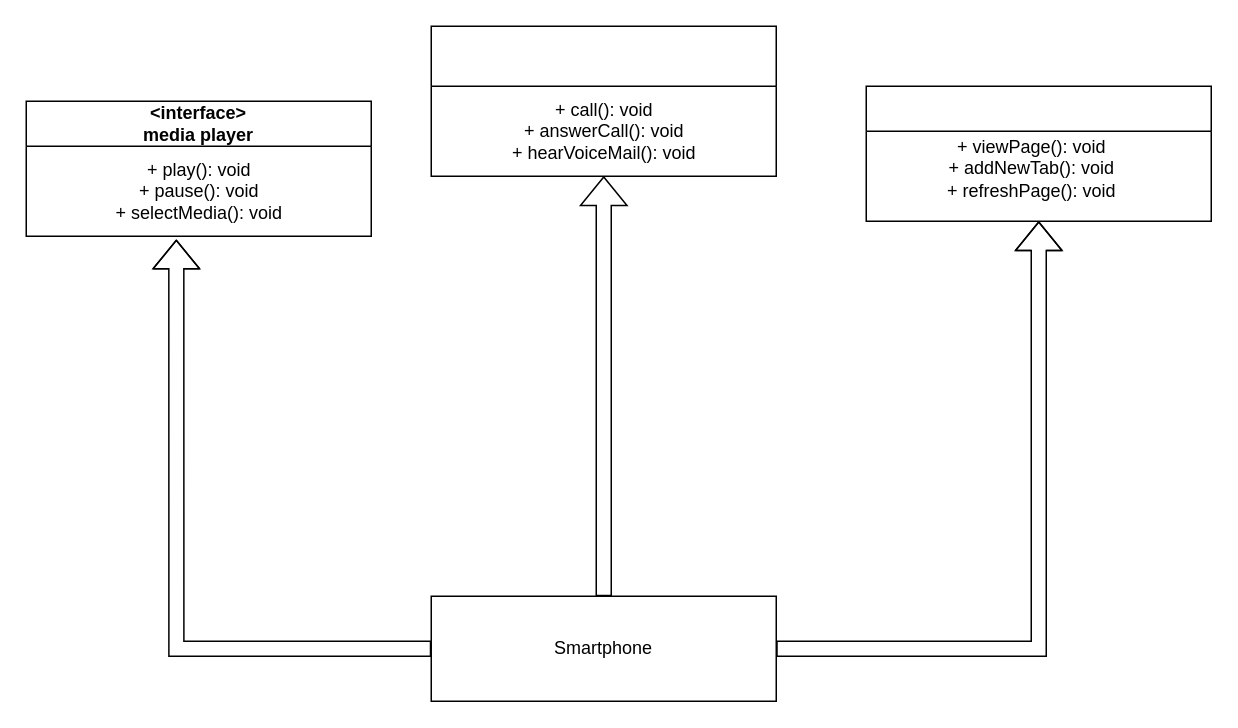
The diagram is 1238 pixels wide and 728 high, and some of its shapes have lost their labels. The box of each missing label's shape, as (x1, y1, x2, y2) in pixels:
<interface> telephone: (430, 25, 776, 176)
<interface> web browser: (865, 85, 1211, 221)
